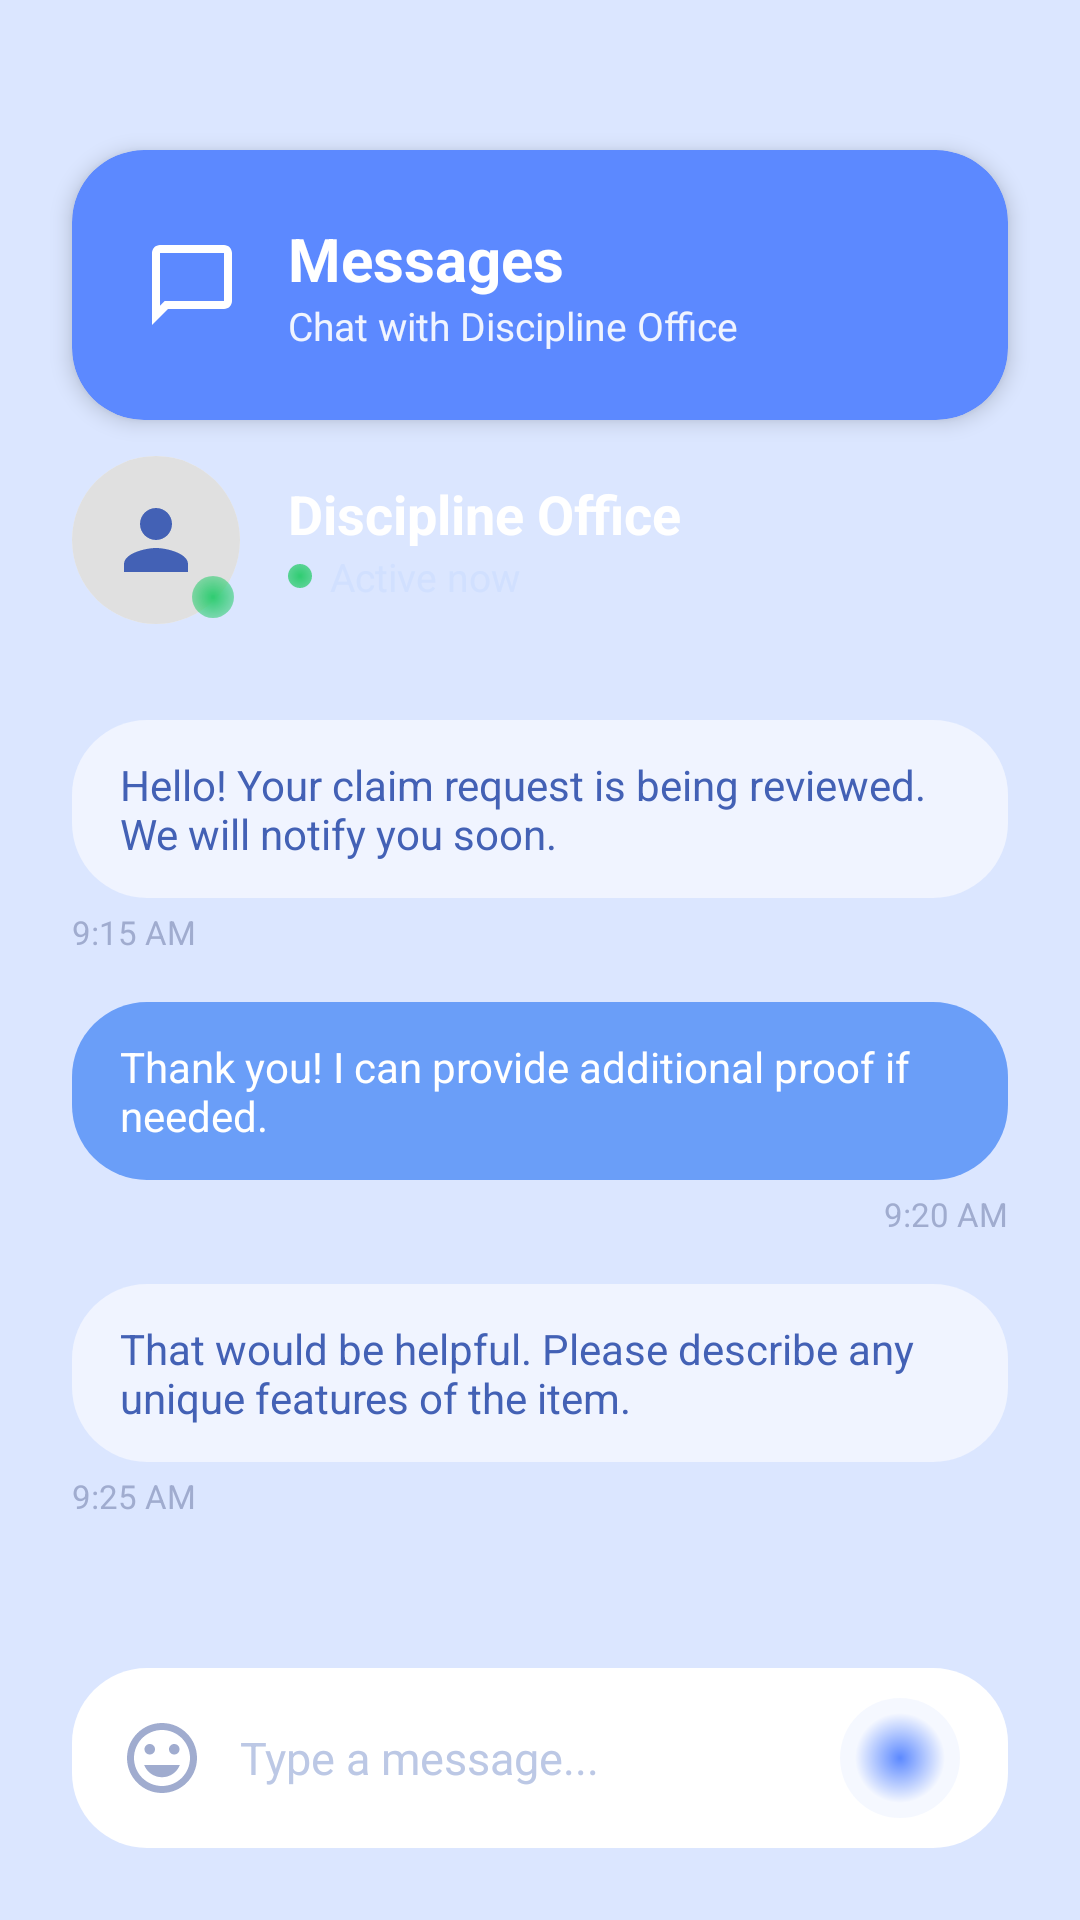

Where icons sit on this 1080w x 1920h app screen, as box=[x1, y1, x2, y2]:
emoji: box=[127, 1723, 197, 1793]
person: box=[72, 456, 240, 624]
